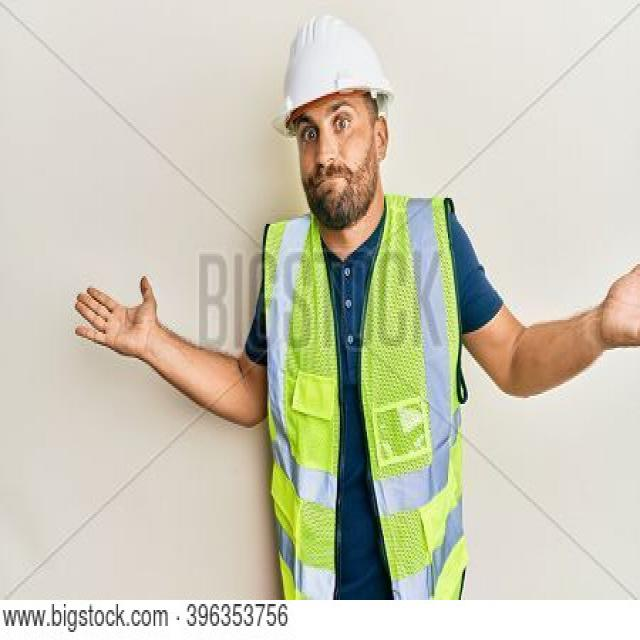Reflective-Jacket: (255, 188, 475, 598)
Safety-Helmet: (274, 10, 397, 130)
